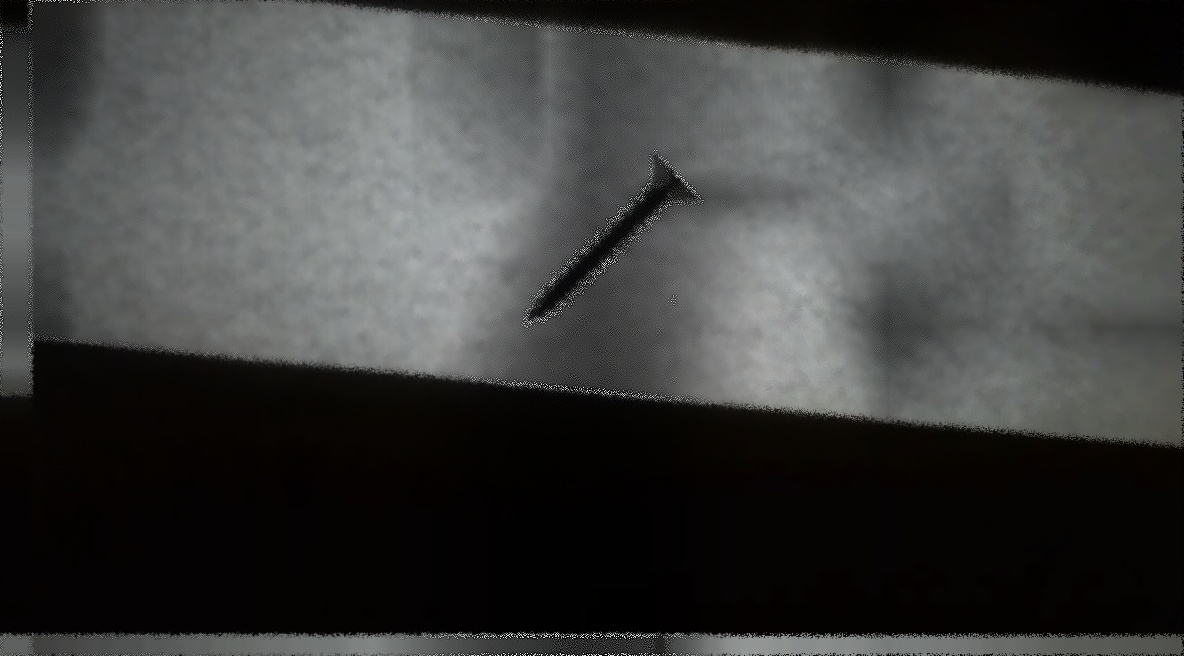S001: (498, 140, 722, 345)
